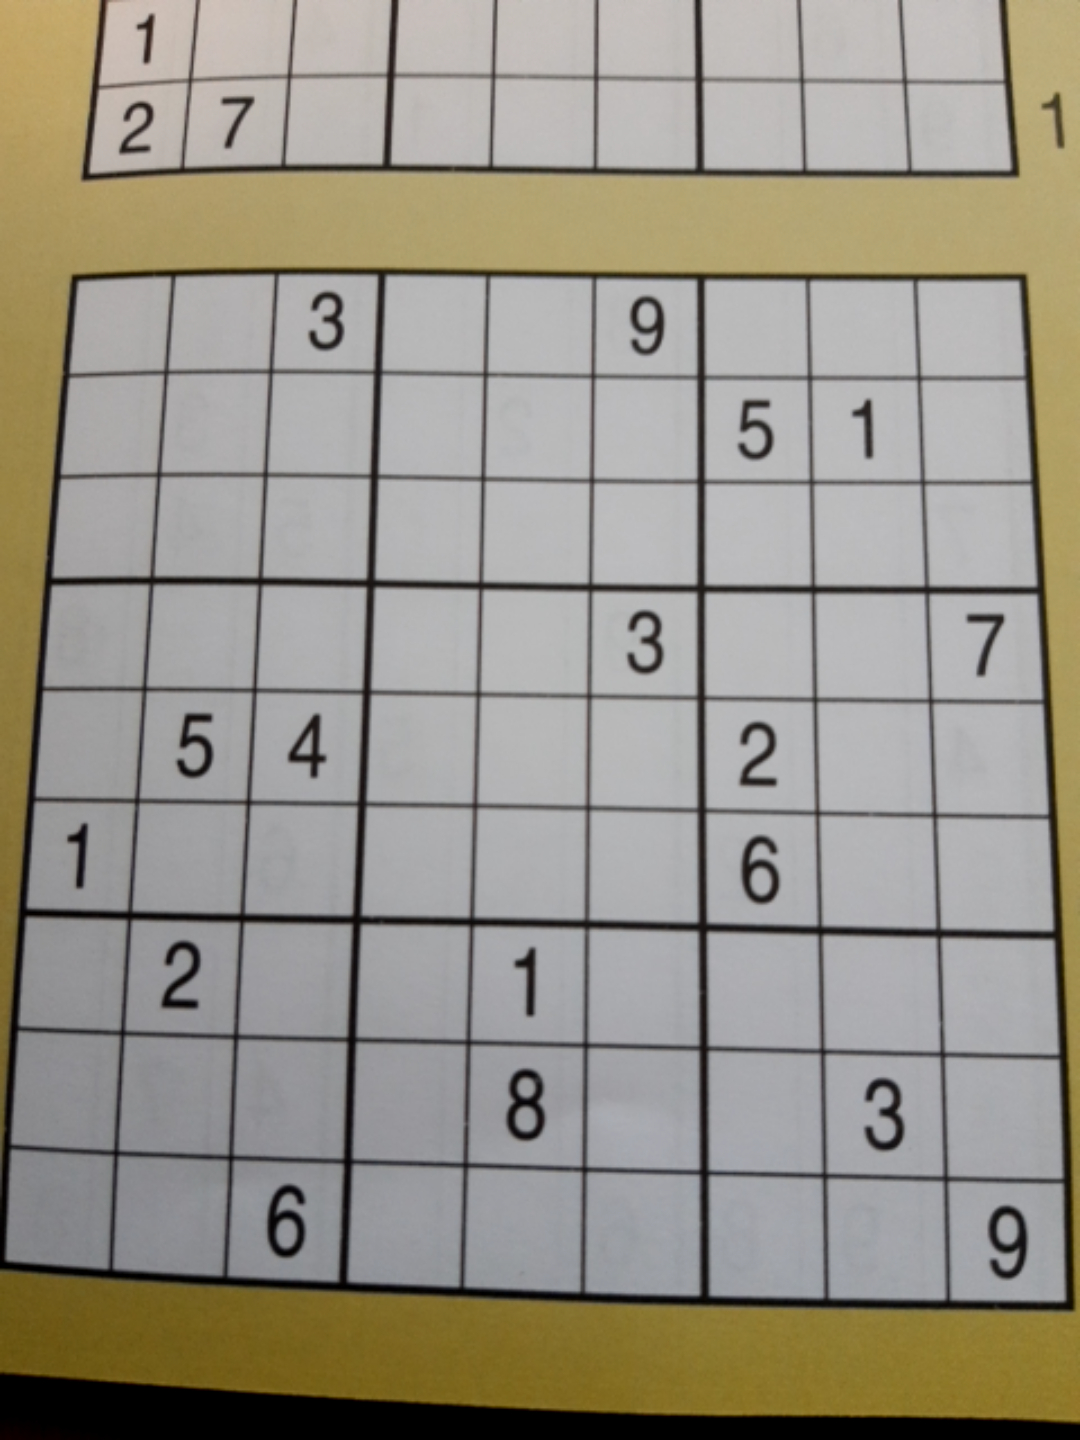sudoku: (10, 270, 1074, 1313)
